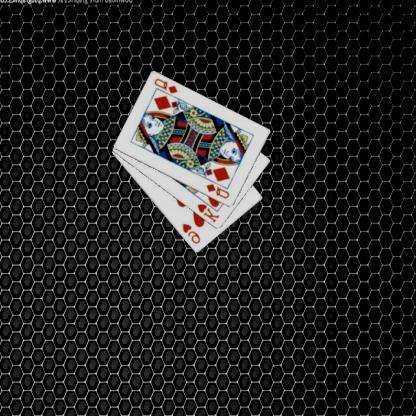9H: (182, 221, 204, 245)
KH: (196, 201, 222, 224)
QD: (153, 76, 181, 95), (205, 182, 232, 200)
